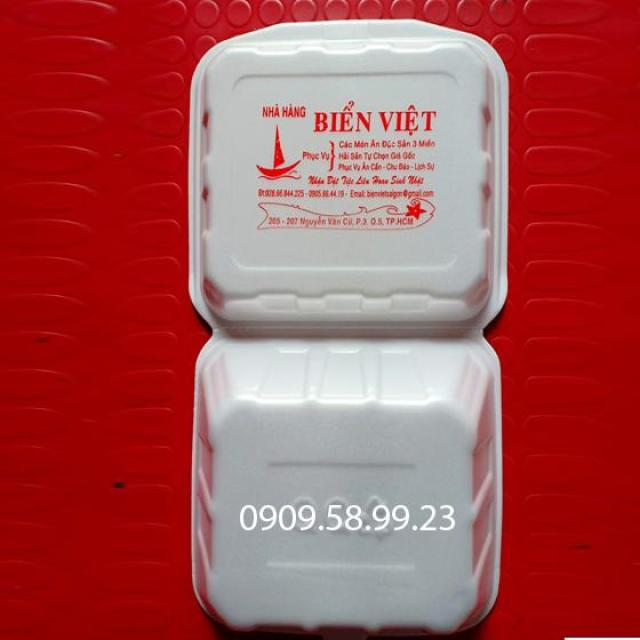styrofoam: (185, 17, 510, 637)
